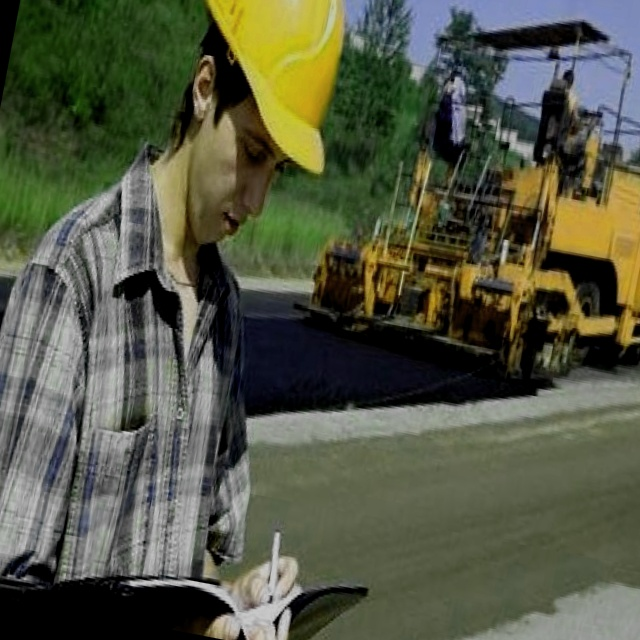Con_Casco: (157, 0, 371, 201)
Sin_Chaleco: (0, 196, 263, 627)
